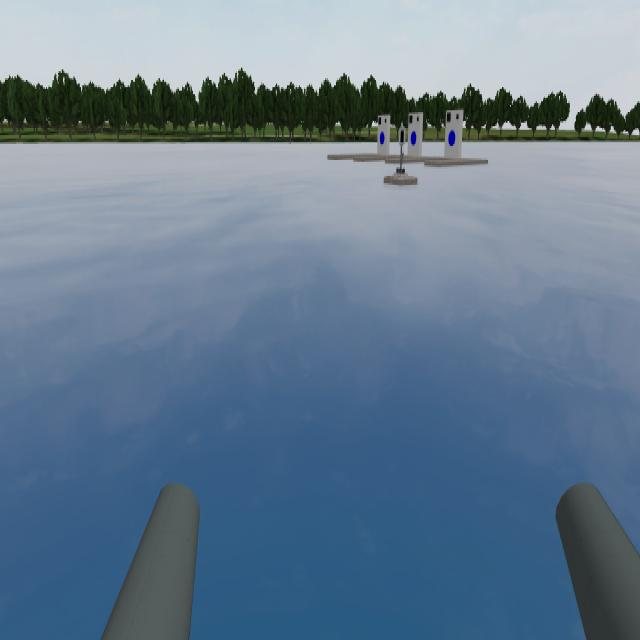black_pole: (396, 118, 407, 161)
